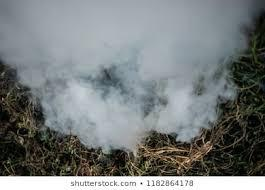smoke: (21, 0, 246, 162)
